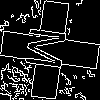M: (25, 25, 76, 73)
